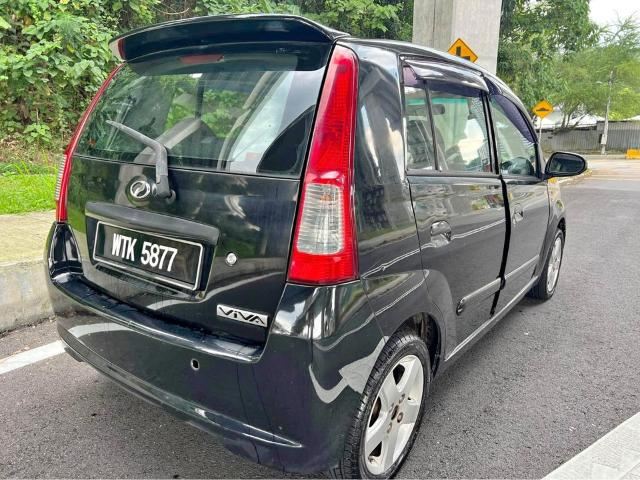License_Plate: (97, 225, 192, 280)
car: (41, 17, 591, 480)
